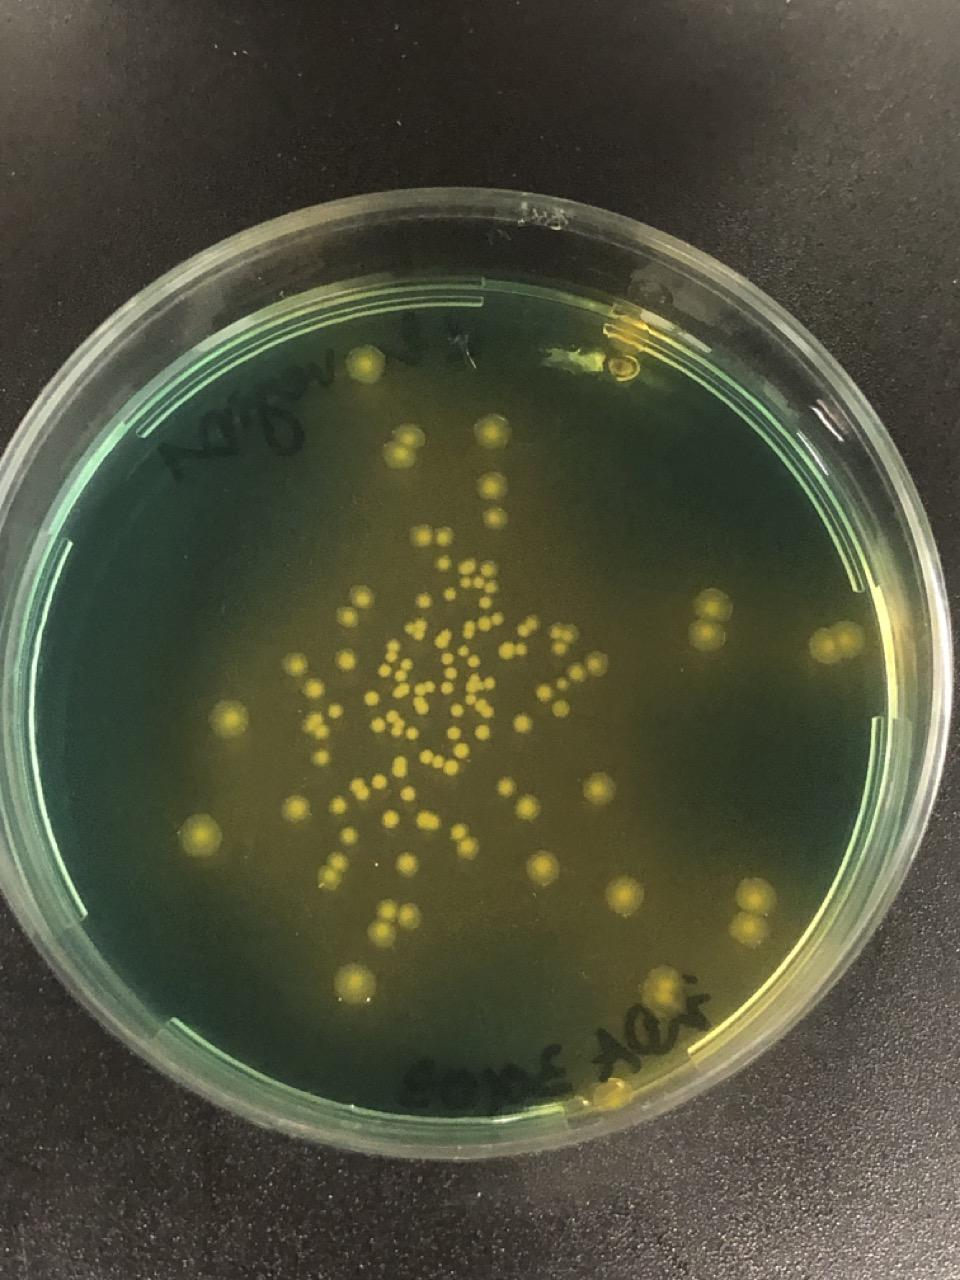vharveyi: (728, 876, 772, 951), (687, 586, 733, 654), (366, 897, 426, 948), (808, 620, 867, 666), (641, 963, 681, 1017), (333, 583, 375, 633), (458, 558, 498, 608), (382, 422, 423, 469), (334, 963, 374, 1004), (605, 876, 645, 916), (520, 847, 560, 887), (183, 816, 222, 857), (208, 697, 246, 739), (314, 850, 351, 892), (372, 709, 418, 740), (463, 672, 494, 718), (463, 612, 505, 641), (475, 414, 507, 446), (348, 350, 380, 382), (412, 679, 436, 716), (392, 850, 422, 878), (306, 711, 332, 742), (440, 651, 458, 695), (511, 793, 539, 821), (332, 646, 360, 674), (477, 474, 505, 502), (393, 658, 413, 696), (281, 795, 309, 823), (583, 774, 610, 802), (302, 676, 330, 703), (281, 649, 309, 677), (455, 835, 481, 862), (493, 773, 519, 799), (509, 710, 535, 736), (584, 651, 609, 677), (497, 641, 529, 660), (403, 619, 429, 642), (516, 615, 538, 638), (417, 749, 444, 768), (384, 637, 401, 663), (550, 625, 576, 641), (551, 699, 571, 719), (352, 777, 367, 800), (435, 629, 454, 647), (381, 810, 399, 828), (370, 773, 388, 791), (311, 749, 329, 767), (436, 554, 454, 572), (437, 528, 455, 546), (399, 783, 416, 802), (415, 592, 433, 611), (414, 527, 432, 546), (393, 755, 407, 778), (339, 827, 357, 845), (425, 813, 442, 831), (330, 796, 347, 814), (327, 701, 344, 720), (486, 510, 504, 527), (475, 725, 491, 743), (455, 744, 469, 758), (365, 692, 379, 707), (555, 676, 569, 690), (484, 674, 498, 688), (456, 642, 470, 656), (551, 641, 565, 655), (443, 588, 457, 602), (448, 726, 461, 740), (537, 686, 551, 700), (571, 665, 584, 679), (377, 663, 390, 677), (446, 761, 459, 774), (450, 703, 463, 717), (469, 655, 481, 669)
